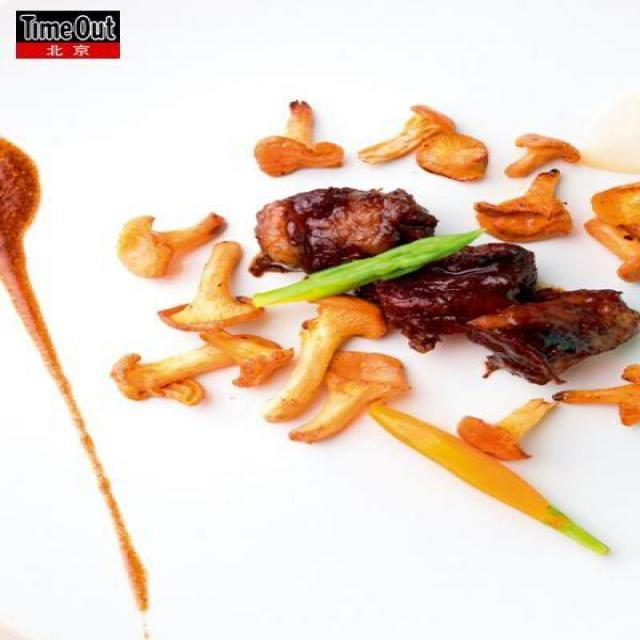Cantharellus cibarius: (275, 292, 376, 413), (117, 332, 276, 404), (281, 355, 403, 442), (355, 106, 478, 181), (165, 243, 262, 328), (119, 207, 232, 279), (259, 101, 344, 179), (463, 396, 550, 460), (479, 169, 560, 235), (555, 365, 640, 423), (509, 133, 577, 178)
